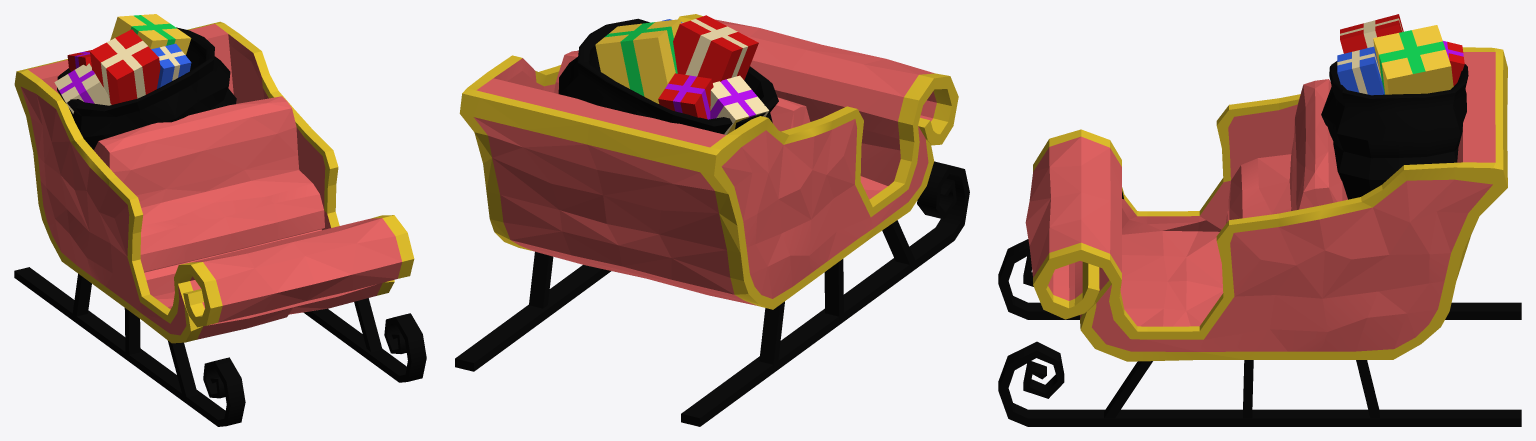
File: Santa_Claus_carriage.fbx
3 views of the same model, side by side, from view 1: azimuth 30°, elevation 25°; view 2: azimuth 150°, elevation 25°; view 3: azimuth 270°, elevation 25° (orthographic). The views are drawn at different scales.
Parts seen in each view (by area): view 1: Santa_Claus_carriage; view 2: Santa_Claus_carriage; view 3: Santa_Claus_carriage.
Part boxes in pixels (box(x1,y1,x2,y2)): Santa_Claus_carriage: box(14, 14, 426, 426); Santa_Claus_carriage: box(455, 14, 969, 426); Santa_Claus_carriage: box(998, 14, 1521, 426).
Bounding box in the file's own units: 125 × 152 × 221.
4 materials, 1 textured.
